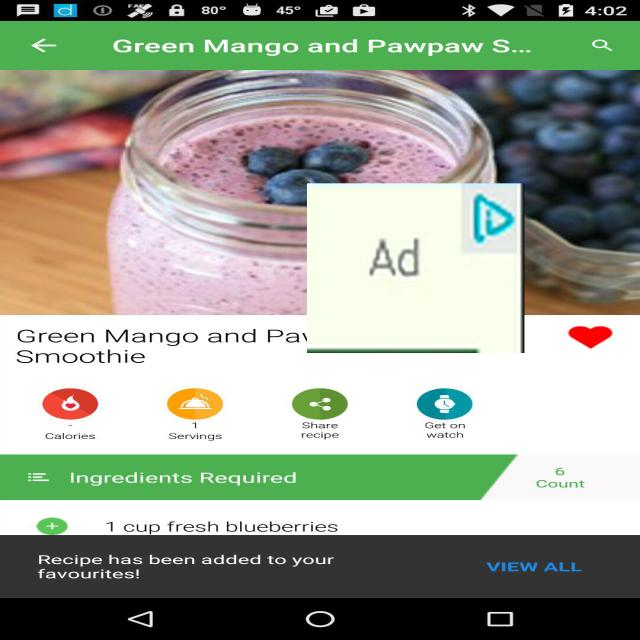sneaking: (307, 183, 524, 353)
